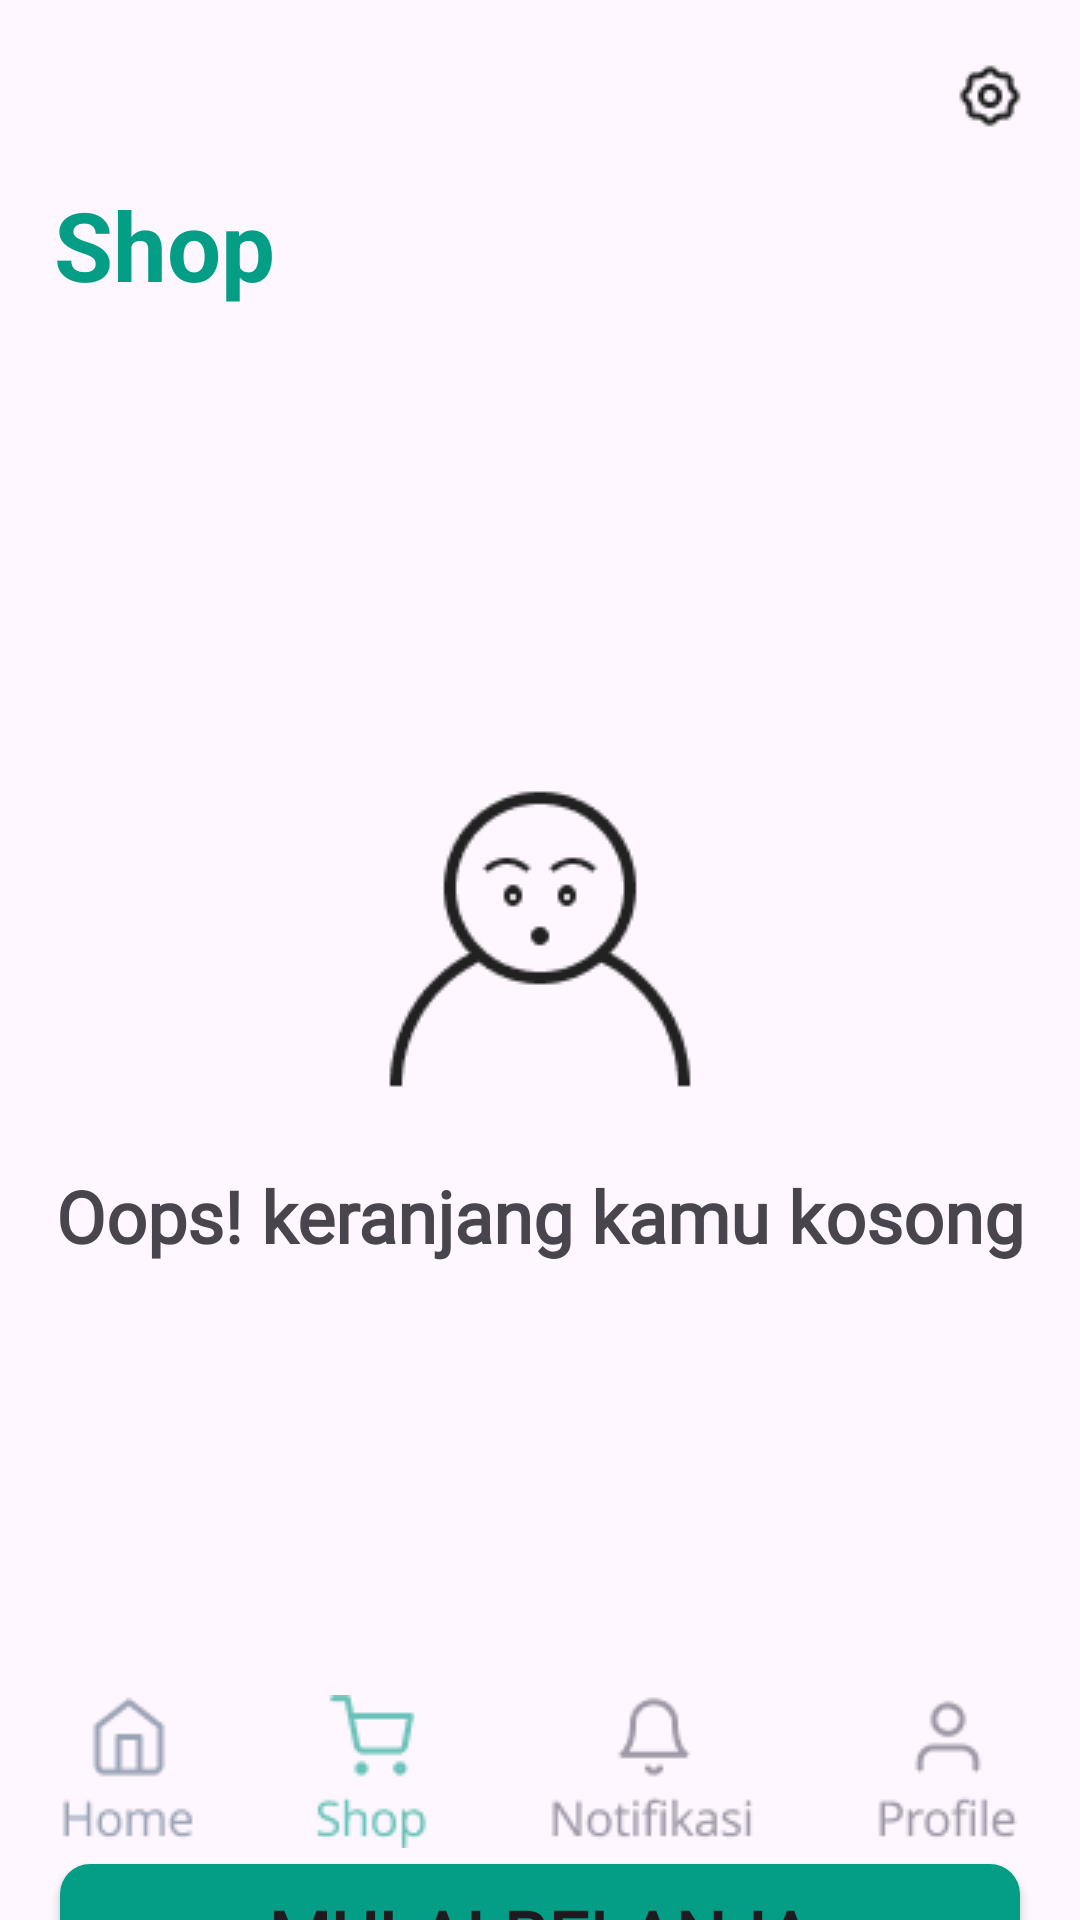

Icon bounding boxes for this 1080px×1920px phone screenshot, format (x1=x1, y1=y1, x2=x2, y2=y2):
pic surprised: (x1=389, y1=791, x2=691, y2=1087)
settings: (x1=959, y1=65, x2=1021, y2=127)
